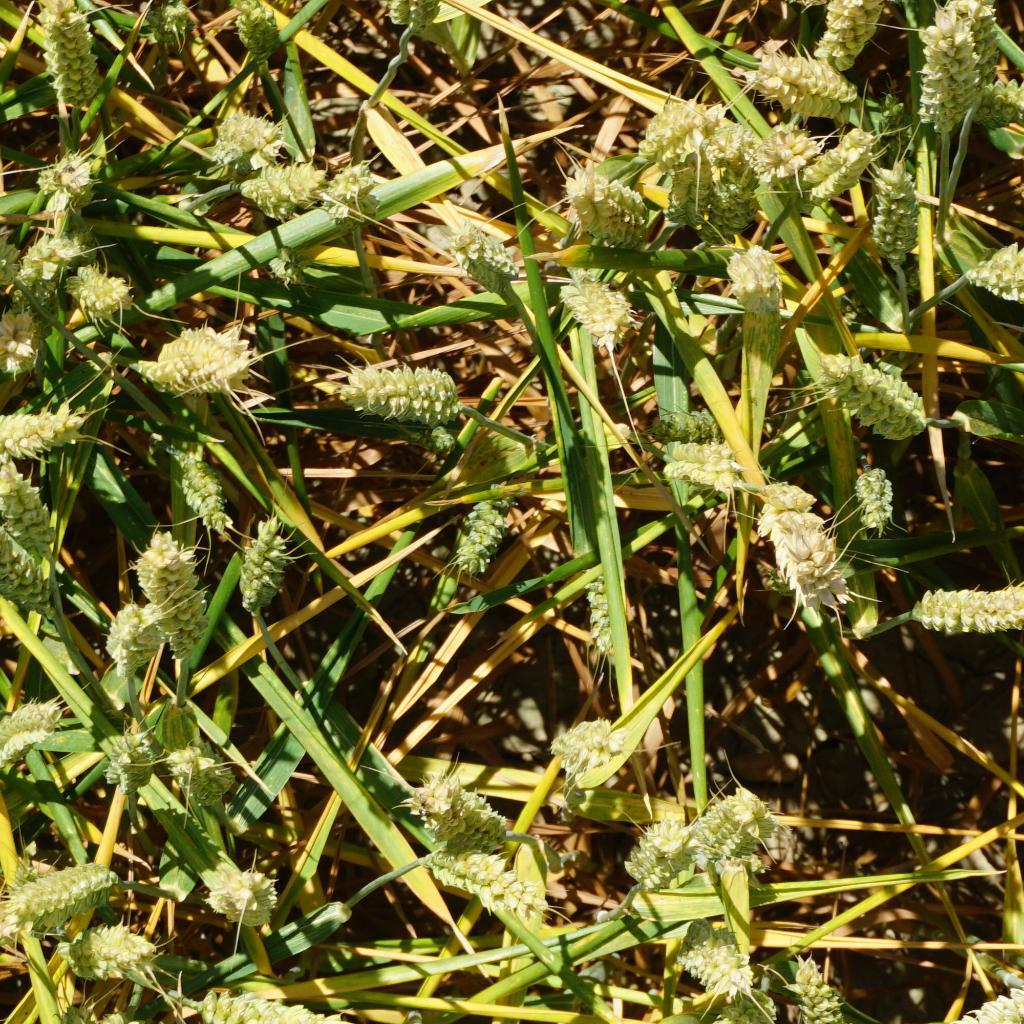0-0: (764, 477, 845, 608), (819, 351, 932, 438), (414, 847, 549, 915), (135, 313, 252, 389), (741, 48, 857, 120), (899, 576, 1024, 642), (329, 363, 466, 419), (33, 0, 101, 111), (404, 782, 509, 850), (559, 165, 651, 241), (186, 986, 363, 1024), (786, 946, 870, 1024), (150, 534, 203, 652), (918, 15, 969, 135), (926, 963, 1024, 1024), (559, 276, 636, 353), (865, 161, 923, 256), (698, 790, 771, 863), (14, 860, 120, 910), (802, 121, 866, 201), (623, 816, 693, 889), (679, 929, 757, 994), (662, 443, 745, 503), (704, 124, 752, 225), (637, 88, 708, 156), (447, 218, 520, 284), (0, 472, 66, 544), (62, 919, 150, 973), (236, 162, 325, 214), (104, 602, 159, 683), (173, 743, 237, 810), (0, 700, 70, 761), (721, 245, 786, 310), (447, 497, 513, 561), (0, 503, 42, 603), (209, 867, 284, 923), (239, 519, 287, 605), (175, 460, 230, 534), (0, 403, 73, 458), (207, 103, 280, 158), (952, 0, 998, 87), (749, 120, 809, 184), (69, 256, 131, 312), (108, 728, 157, 798), (584, 574, 626, 654), (846, 469, 900, 530), (966, 246, 1024, 302), (237, 3, 281, 76), (555, 713, 620, 762), (820, 0, 868, 59), (20, 231, 70, 286), (35, 156, 96, 201), (0, 305, 40, 372), (694, 993, 780, 1024), (670, 151, 706, 225), (139, 2, 200, 45), (387, 0, 445, 43), (984, 64, 1024, 121), (659, 401, 715, 438), (328, 163, 380, 201), (408, 419, 454, 455), (0, 224, 19, 284), (47, 1004, 92, 1024)
